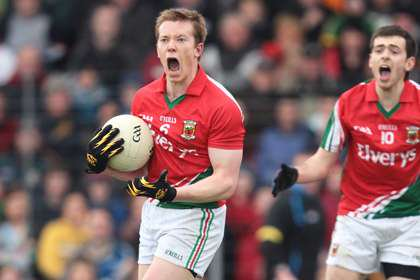ball: (96, 111, 149, 169)
player: (112, 7, 245, 267), (314, 24, 415, 267)
